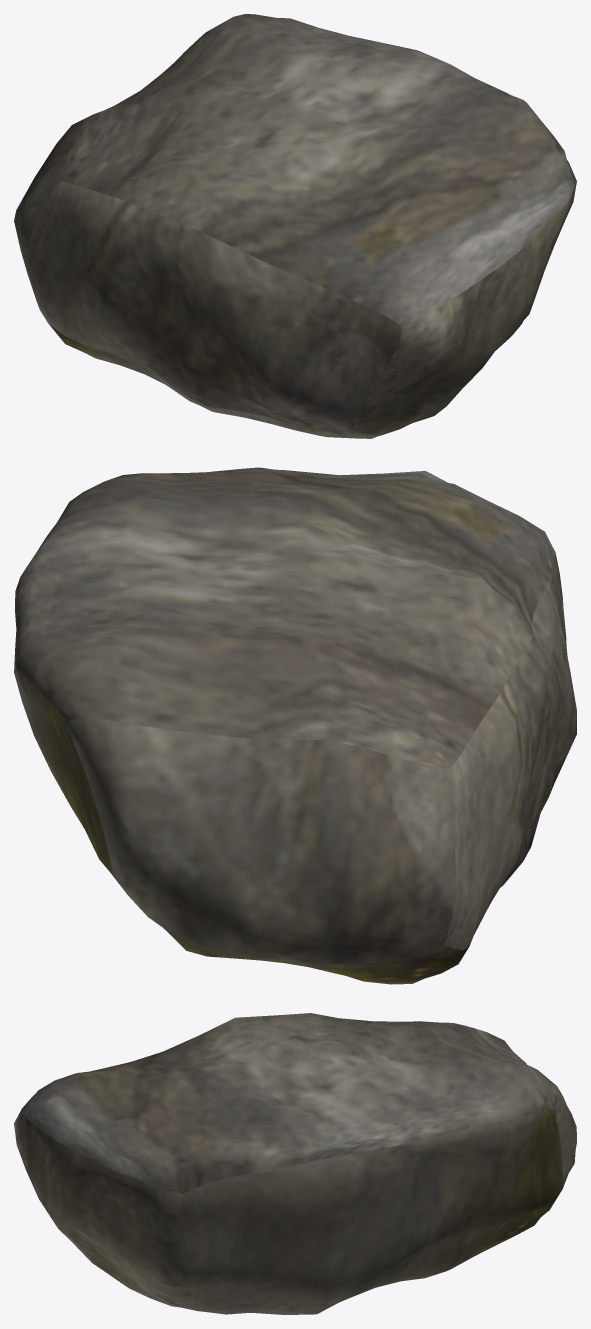
File: Rock4.fbx
3 views of the same model, one above another, from view 1: azimuth 30°, elevation 25°; view 2: azimuth 150°, elevation 25°; view 3: azimuth 270°, elevation 25° (orthographic). The views are drawn at different scales.
Parts seen in each view (by area): view 1: Rock3; view 2: Rock3; view 3: Rock3.
Boxes of the visible parts, left/top/right/bottom form: Rock3: left=14, top=14, right=576, bottom=438; Rock3: left=14, top=467, right=576, bottom=984; Rock3: left=14, top=1013, right=576, bottom=1314.
Bounding box in the file's own units: 23.9 × 15.88 × 30.9.
